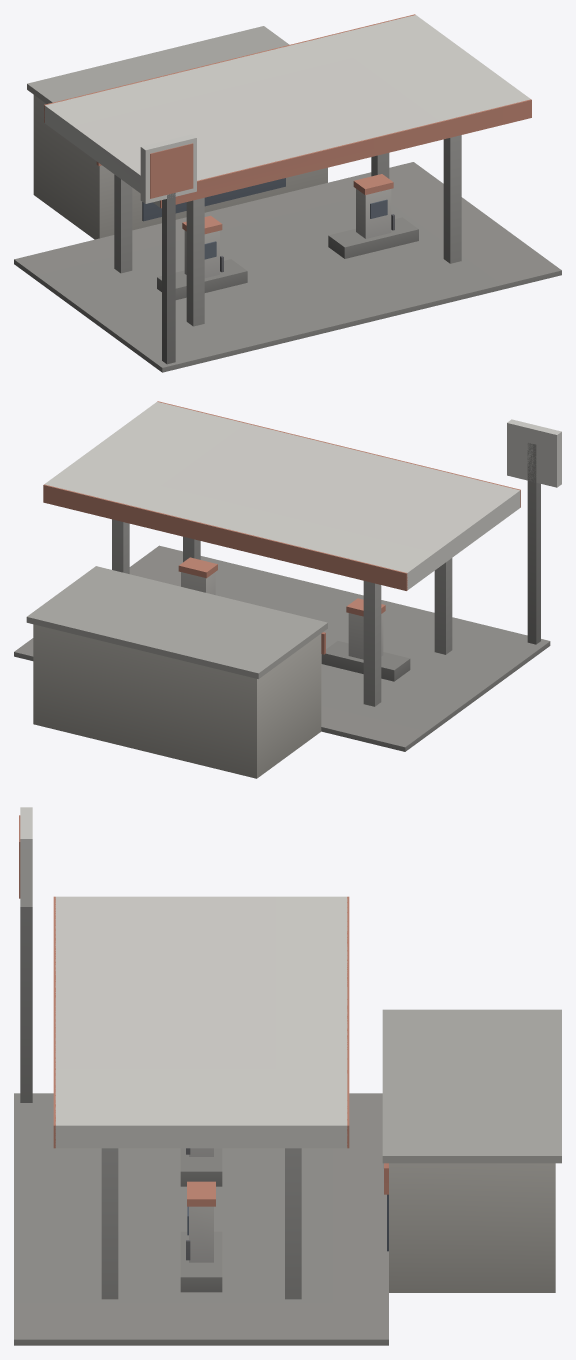
File: sv_fuel.glb
3 renders of one model, top to bottom at view 1: azimuth 30°, elevation 25°; view 2: azimuth 150°, elevation 25°; view 3: azimuth 270°, elevation 25°, orthographic. The views are drawn at different scales.
Visible parts, largest first — view 1: sv_fuel; view 2: sv_fuel; view 3: sv_fuel.
Part boxes in pixels (<box>): sv_fuel: <box>14,14,561,372</box>; sv_fuel: <box>14,401,561,778</box>; sv_fuel: <box>14,807,561,1345</box>.
Size of the model in its own units: 14.5 by 7.5 by 13.15.
